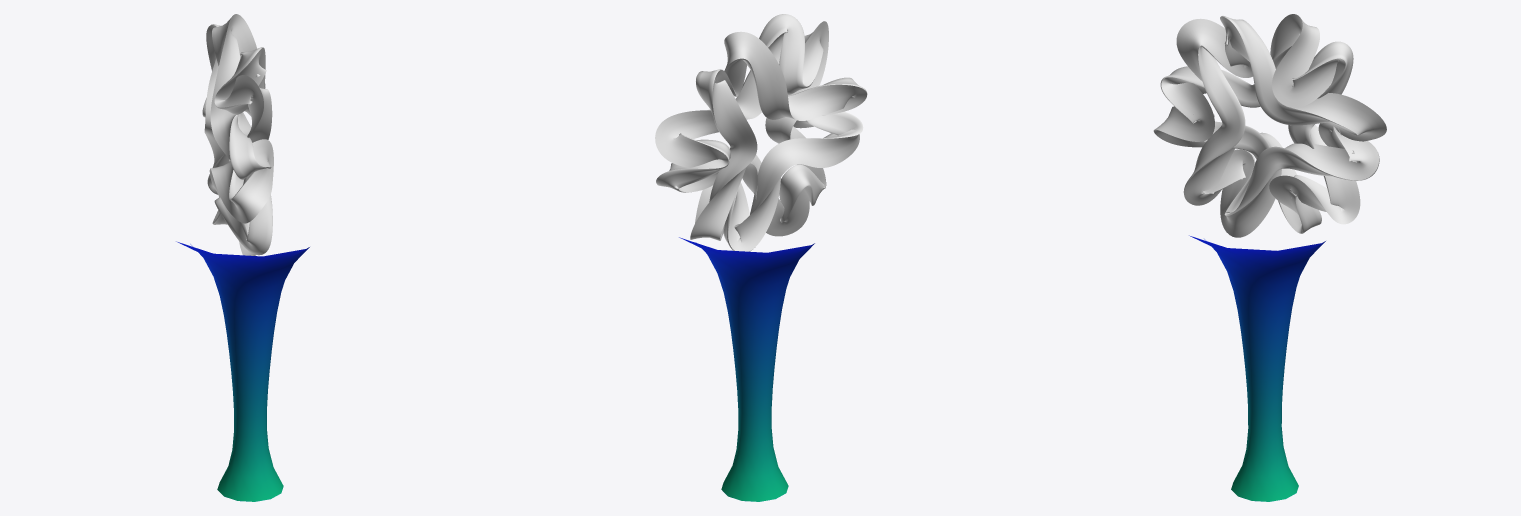
File: station02.glb
3 views of the same model, side by side, from view 1: azimuth 30°, elevation 25°; view 2: azimuth 150°, elevation 25°; view 3: azimuth 270°, elevation 25° (orthographic). The views are drawn at different scales.
Parts seen in each view (by area): view 1: station02_out, station02_tube_out; view 2: station02_out, station02_tube_out; view 3: station02_out, station02_tube_out.
Part boxes in pixels (x1,y1,x2,y2): station02_out: [202, 14, 273, 255]; station02_tube_out: [176, 241, 309, 501]; station02_out: [655, 14, 867, 251]; station02_tube_out: [679, 237, 814, 501]; station02_out: [1153, 14, 1386, 237]; station02_tube_out: [1189, 235, 1325, 501].
Size of the model in its own units: 876 by 944 by 876.
Materials: 1 (1 with a texture image).
